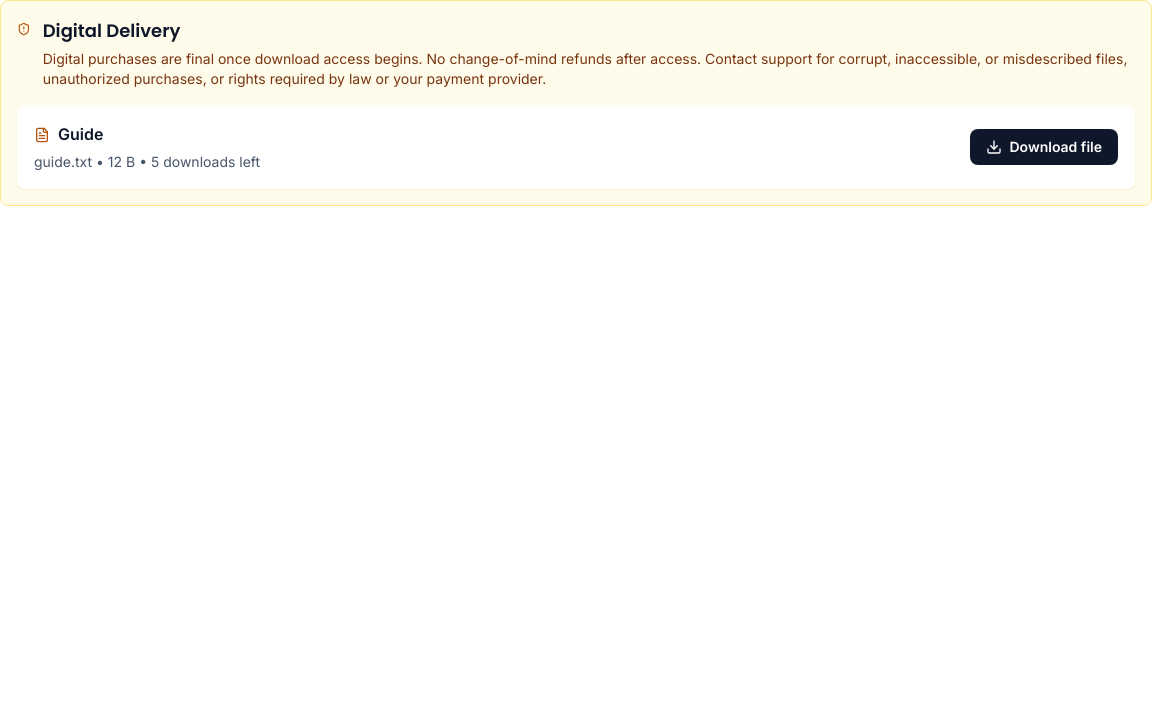
Test: visible digital delivery › requires on-page acceptance and leaves a clickable save link for mobile browsers
Later steps or results of the test are not shown.
Click the button "Download file".
click(1044, 147)  # box [970,129,1118,165]
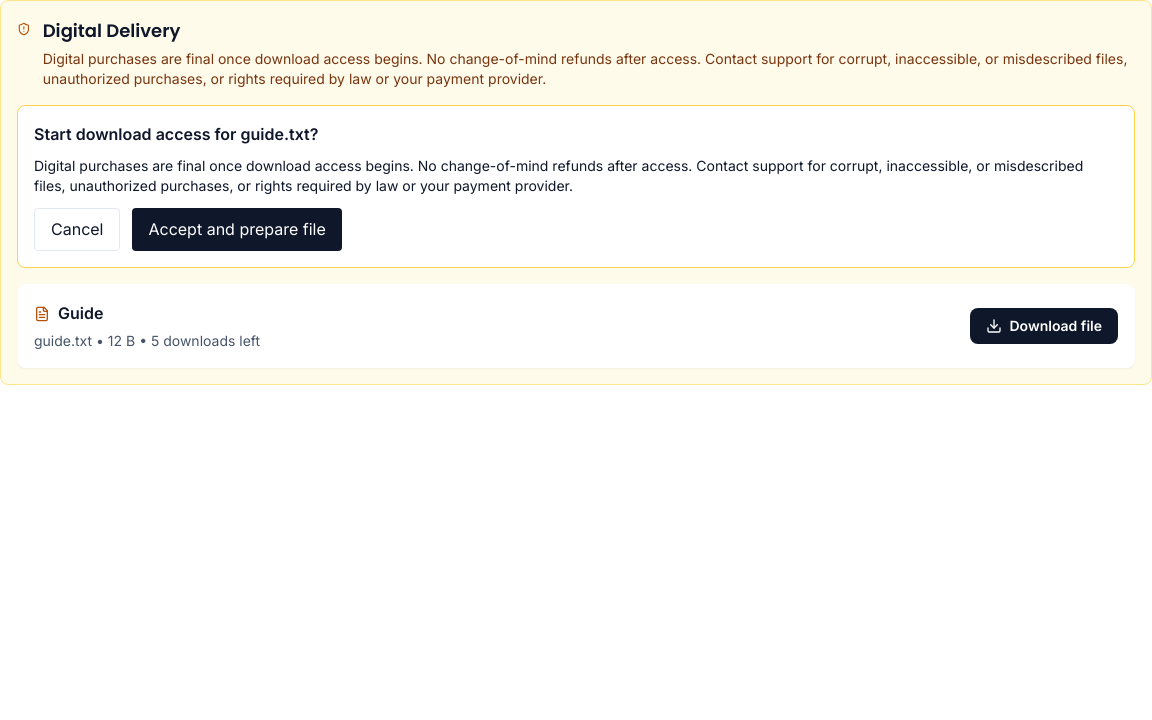
Expected: the dialog is shown, [17,105,1135,268]
